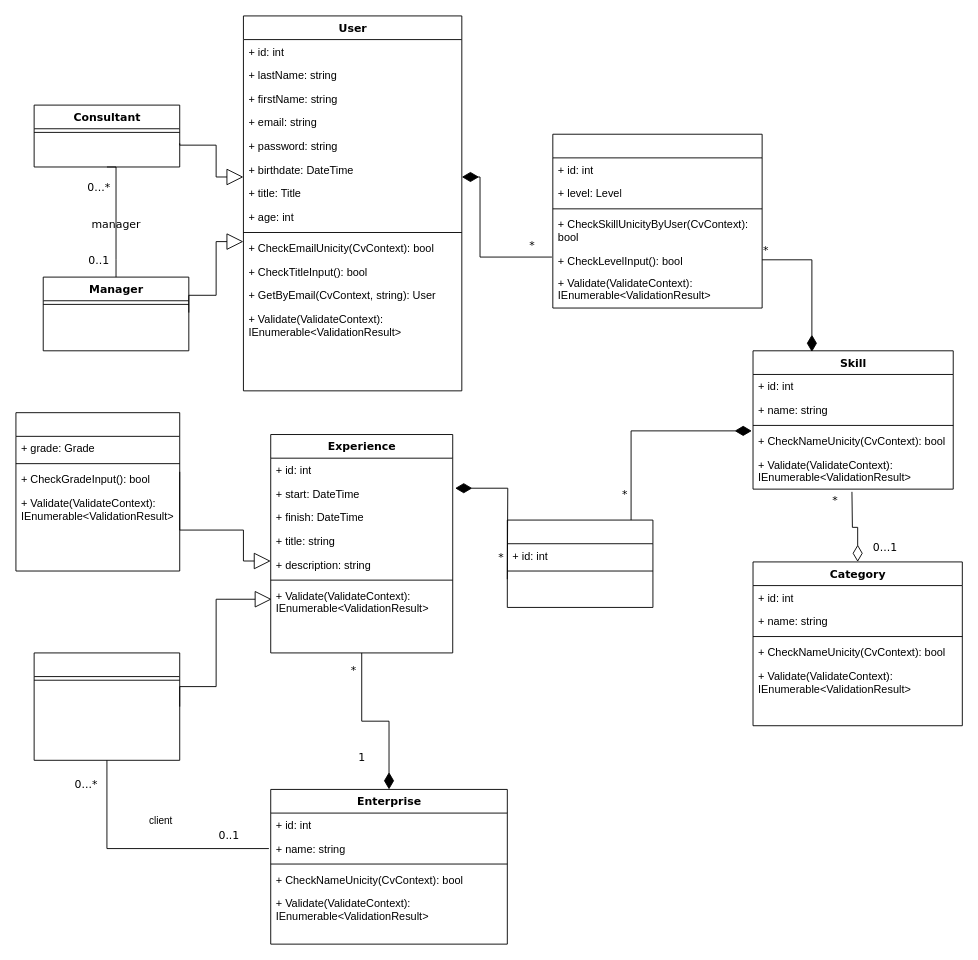
This 978x960 diagram has some shape labels left out. Here are the shapes that lost their labels. From the top down, the box of each, then its label:
(552, 133, 762, 308): Mastering
(15, 412, 180, 571): Training
(506, 519, 653, 607): Using
(33, 652, 180, 760): Mission
